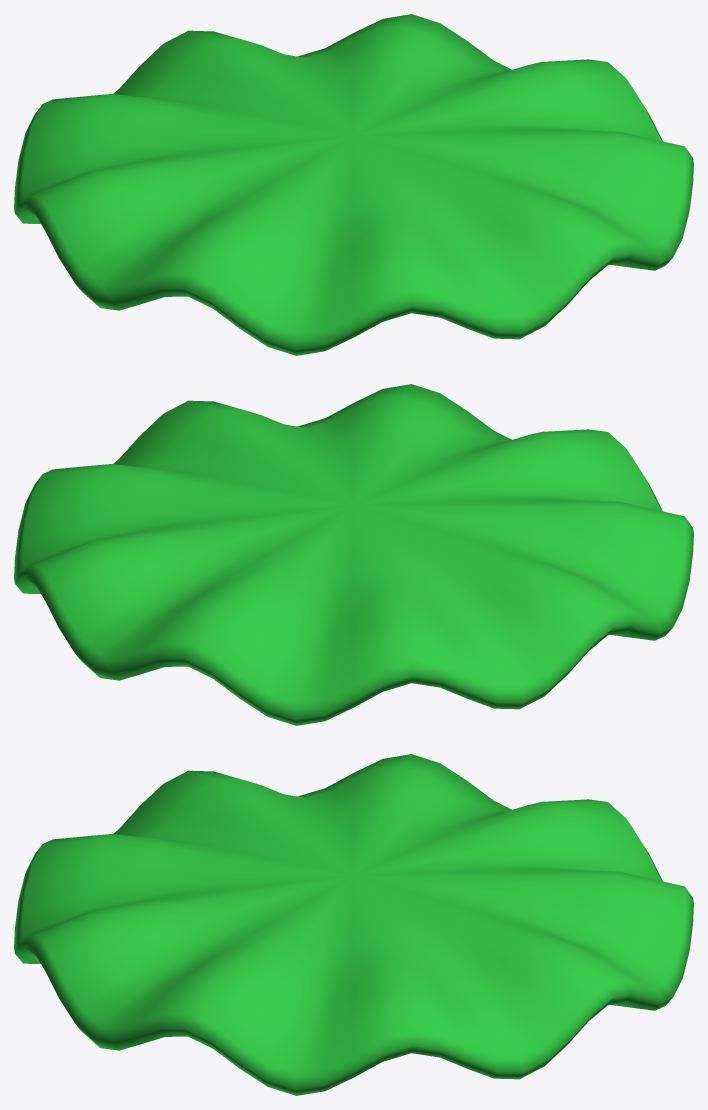
File: lettuce_slice.fbx
3 renders of one model, top to bottom at view 1: azimuth 30°, elevation 25°; view 2: azimuth 150°, elevation 25°; view 3: azimuth 270°, elevation 25°, orthographic.
Visible parts, largest first — view 1: Lettuce_slice; view 2: Lettuce_slice; view 3: Lettuce_slice.
Boxes of the visible parts, x1,y1,x2,y2 form: Lettuce_slice: (14, 14, 693, 355); Lettuce_slice: (14, 384, 693, 725); Lettuce_slice: (14, 754, 693, 1095).
Bounding box in the file's own units: 94.39 × 12.79 × 94.16.
